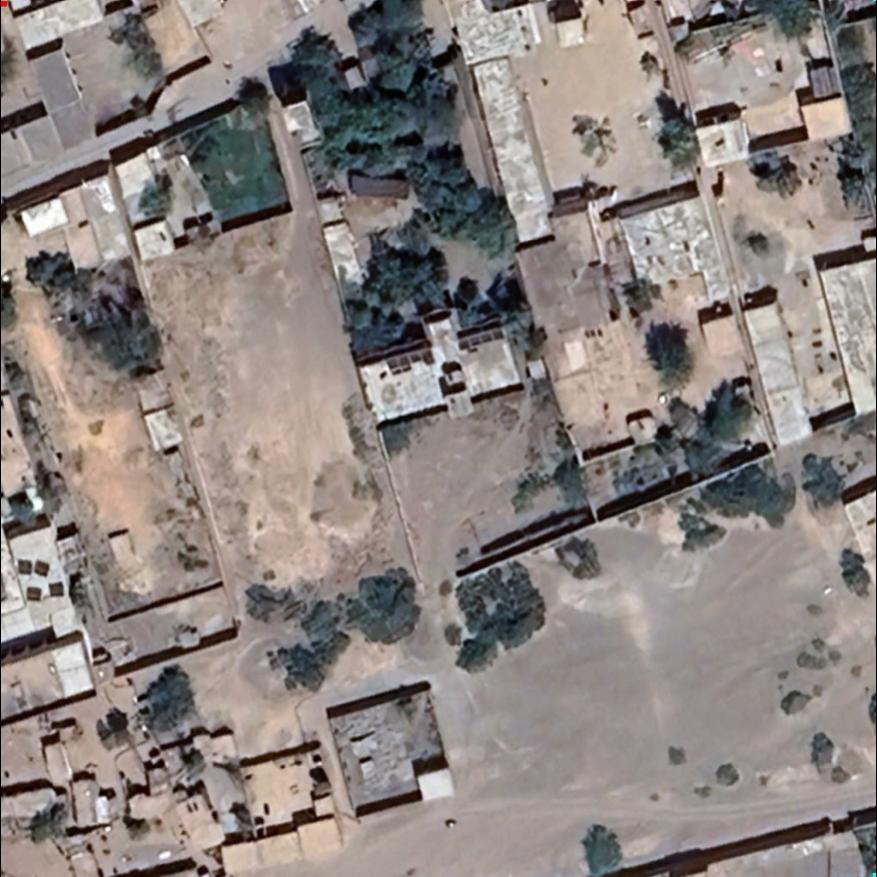Solarpanel: (384, 345, 439, 378), (454, 325, 510, 353), (14, 557, 52, 581), (46, 579, 71, 601), (22, 586, 43, 602)
